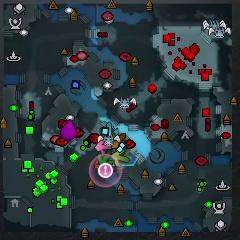p3: (61, 121, 76, 140)
x1: (95, 141, 113, 156)
x2: (111, 149, 130, 167)
x3: (105, 122, 118, 140)
x4: (97, 151, 113, 166)
x5: (114, 133, 126, 149)
